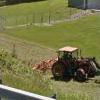Tractor: (41, 39, 100, 88)
